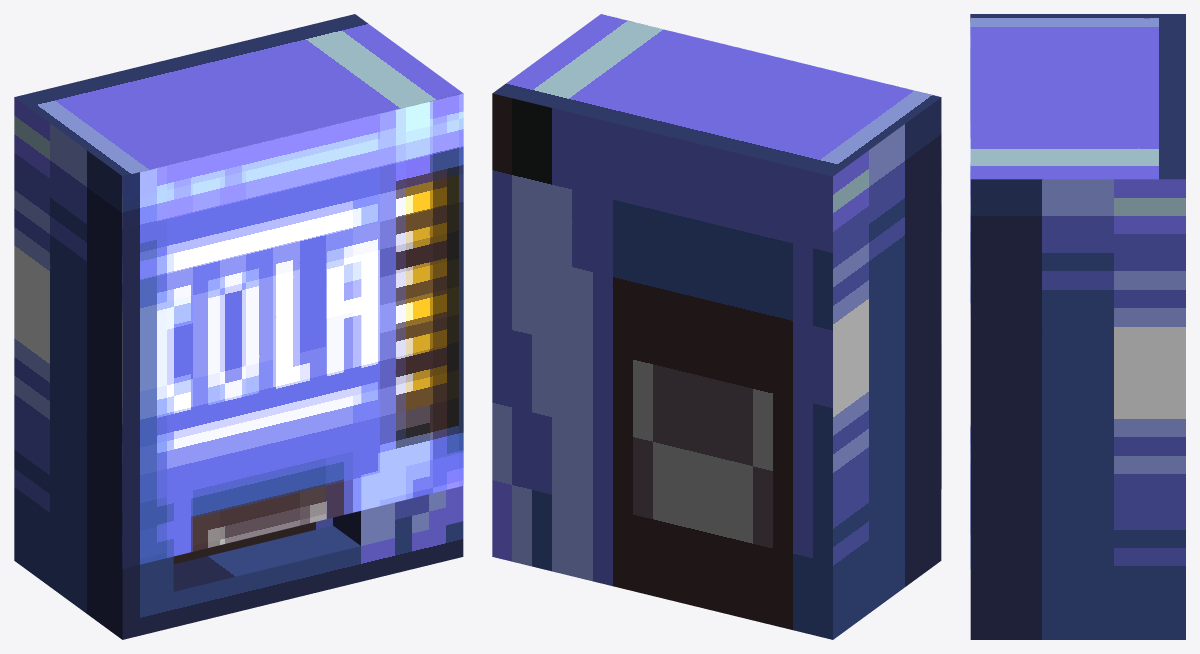
Rendered from vending_cola_machine.glb.
The picture shows the model from 3 angles, left to right: view 1: azimuth 30°, elevation 25°; view 2: azimuth 150°, elevation 25°; view 3: azimuth 270°, elevation 25°; orthographic projection.
Parts seen in each view (by area): view 1: vending_cola_machine, vending_cola_machine_Cabinet, vending_cola_machine_Delivery_Flap; view 2: vending_cola_machine_Cabinet, vending_cola_machine; view 3: vending_cola_machine_Cabinet, vending_cola_machine.
Part boxes in pixels (x1,y1,x2,y2): vending_cola_machine: [122, 93, 463, 568]; vending_cola_machine_Cabinet: [14, 14, 463, 639]; vending_cola_machine_Delivery_Flap: [173, 517, 332, 564]; vending_cola_machine_Cabinet: [492, 14, 941, 639]; vending_cola_machine: [601, 14, 941, 488]; vending_cola_machine_Cabinet: [970, 14, 1185, 639]; vending_cola_machine: [970, 14, 970, 568].
Size of the model in its own units: 1.2 by 1.56 by 0.662.
3 materials, 3 textured.
